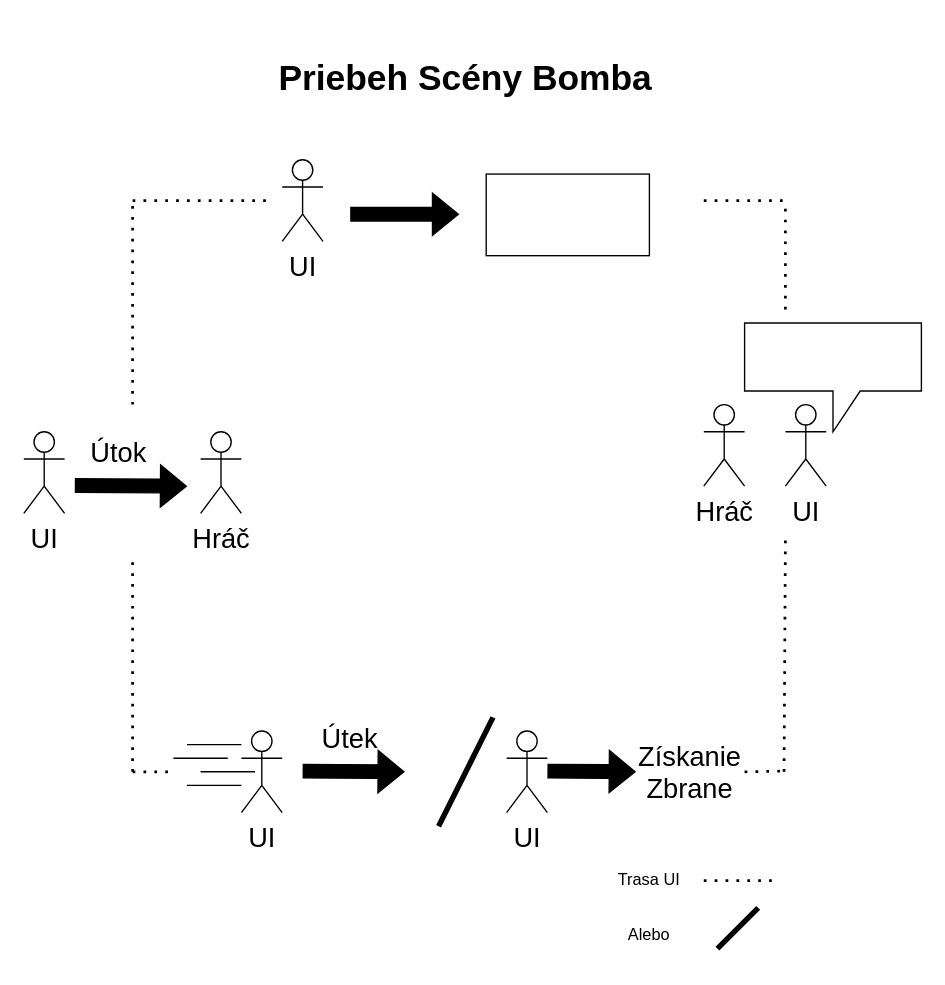
Image size: 945x985. Some labels were removed from this diagram. Each missing label, with the centre of its shape:
"Bomba" goes at pixel 567 214.
"Konfrontácia" goes at pixel 832 377.
